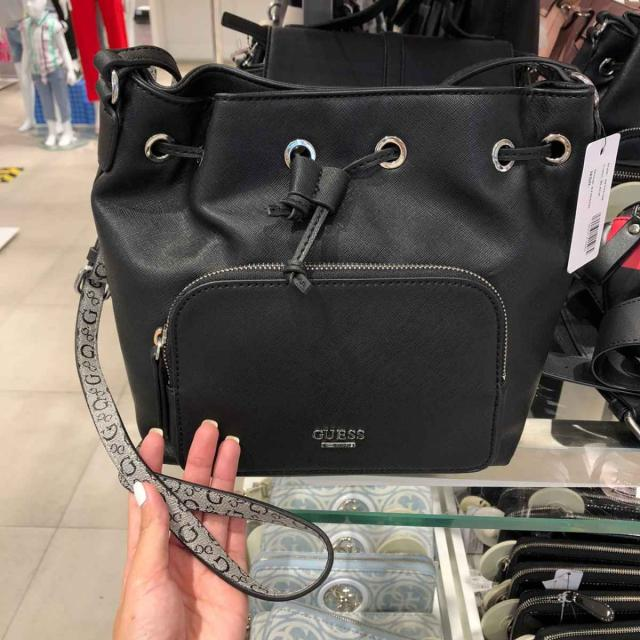Handbag: (109, 38, 606, 477)
